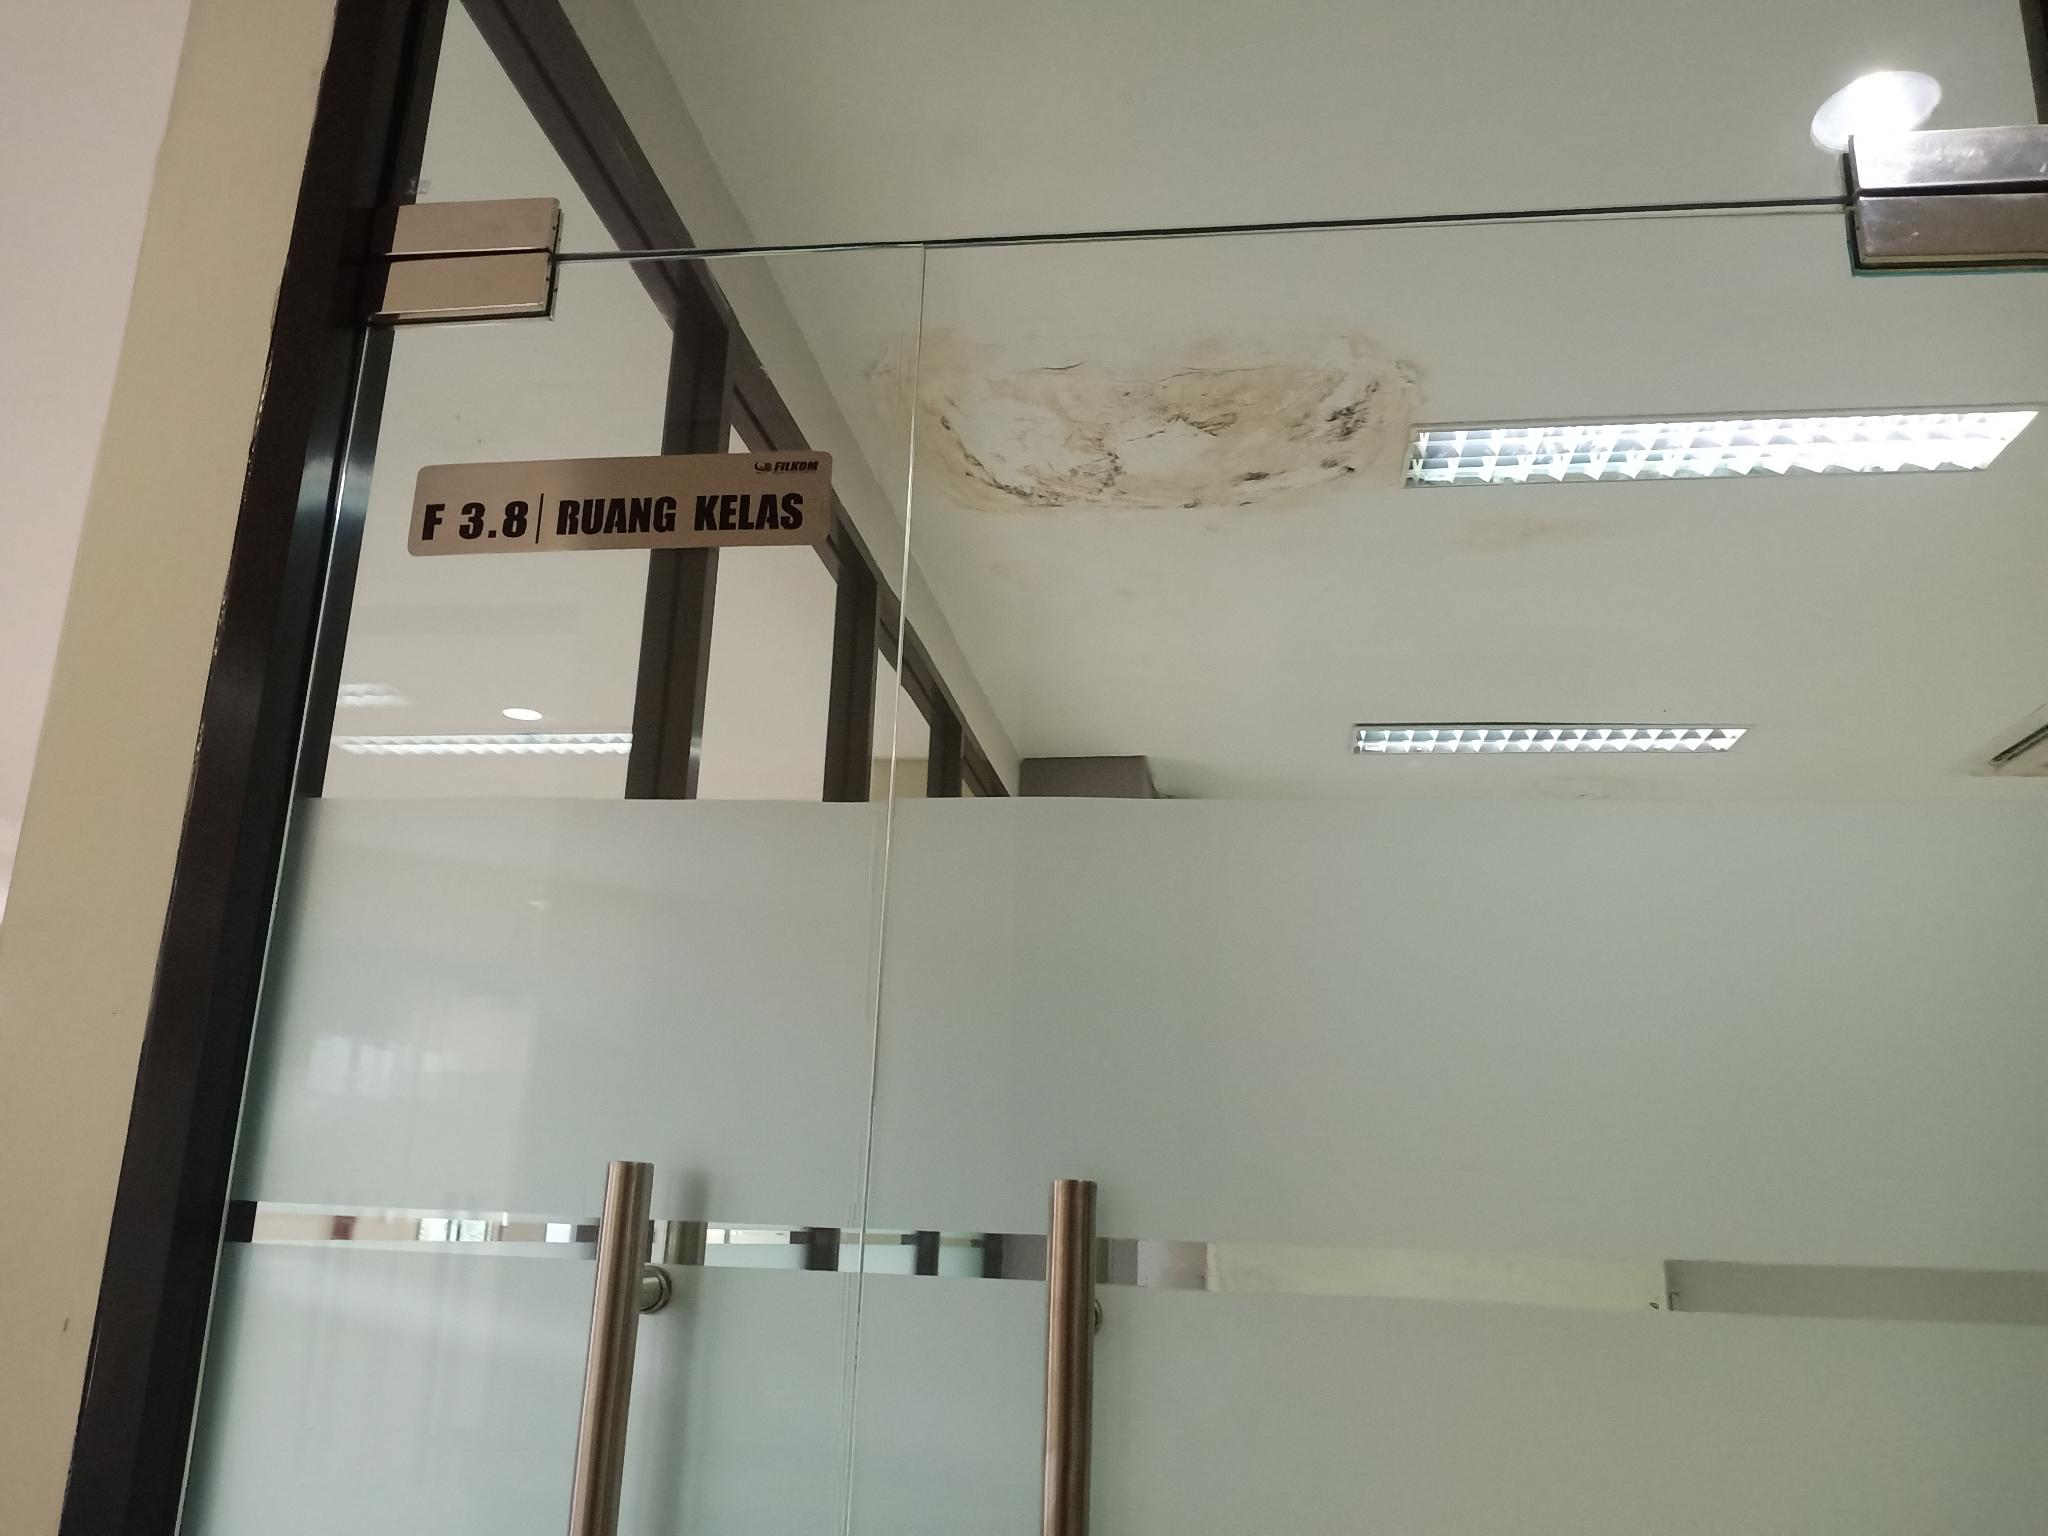plate: (406, 449, 834, 558)
